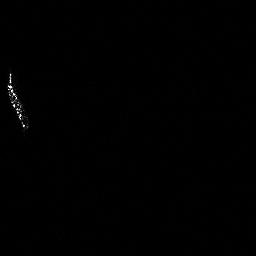ship: (4, 70, 33, 134)
